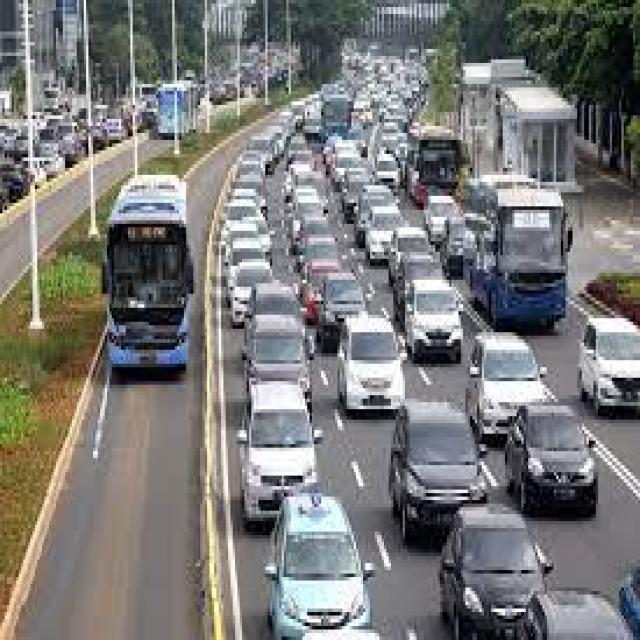bus: (102, 175, 191, 367), (463, 175, 563, 329), (410, 126, 458, 206)
car: (265, 497, 379, 640), (442, 507, 549, 640), (389, 399, 484, 542), (237, 381, 317, 525), (505, 406, 596, 514), (465, 332, 542, 441), (337, 315, 403, 413), (247, 315, 310, 413), (577, 318, 638, 413), (524, 595, 633, 640), (405, 280, 461, 364), (356, 154, 398, 248), (317, 273, 363, 353), (393, 255, 440, 329), (230, 262, 270, 325), (354, 185, 393, 248), (426, 196, 456, 276), (303, 259, 337, 325), (365, 206, 400, 262), (389, 227, 426, 274), (249, 283, 298, 318), (342, 168, 368, 224), (442, 213, 463, 276), (305, 238, 335, 262), (298, 196, 321, 220), (305, 217, 328, 241)
